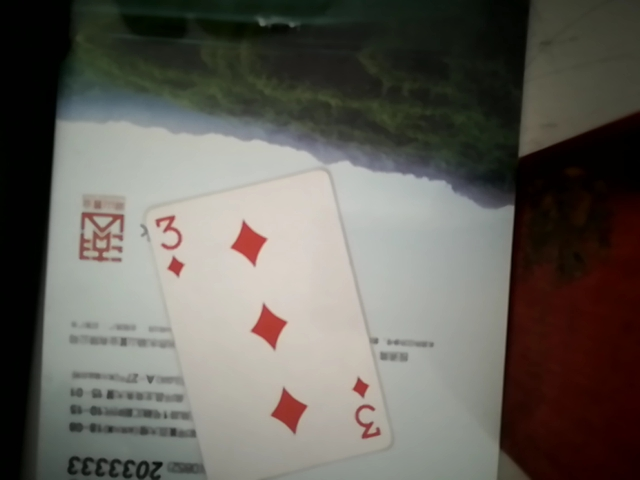fk 3: (123, 152, 399, 476)
